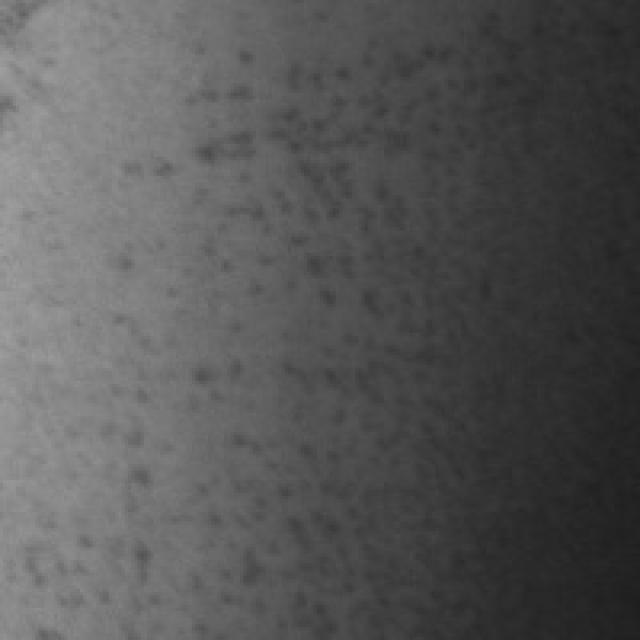pitted_surface: (141, 35, 515, 621)
